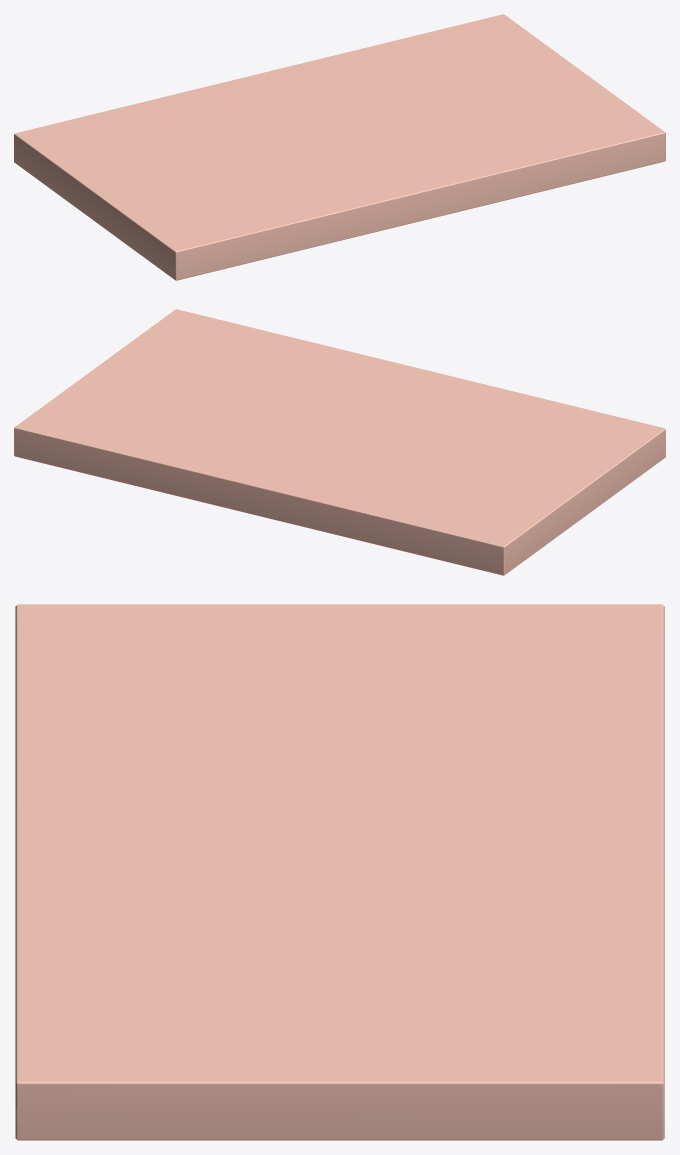
File: Public_3_Base_1.glb
The picture shows the model from 3 angles, top to bottom: view 1: azimuth 30°, elevation 25°; view 2: azimuth 150°, elevation 25°; view 3: azimuth 270°, elevation 25°; orthographic projection. The views are drawn at different scales.
Parts seen in each view (by area): view 1: Public_3_Base_1; view 2: Public_3_Base_1; view 3: Public_3_Base_1.
Part boxes in pixels (bbox=[...]): Public_3_Base_1: bbox=[14, 14, 665, 280]; Public_3_Base_1: bbox=[14, 309, 665, 575]; Public_3_Base_1: bbox=[15, 604, 664, 1140].
Bounding box in the file's own units: 21.93 × 1.27 × 12.55.
Materials: 1 (1 with a texture image).
